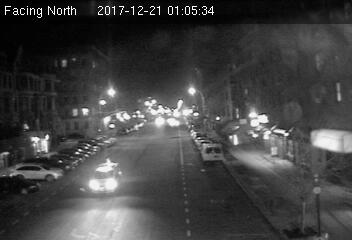car: (90, 157, 125, 195)
truck: (201, 143, 222, 164)
